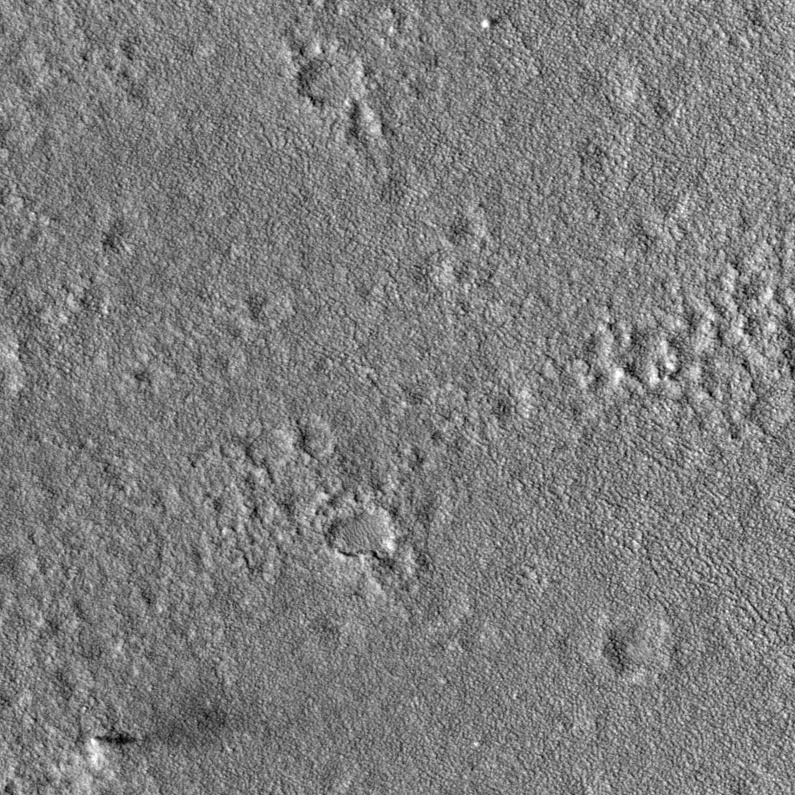dust_devil: (84, 707, 227, 770)
